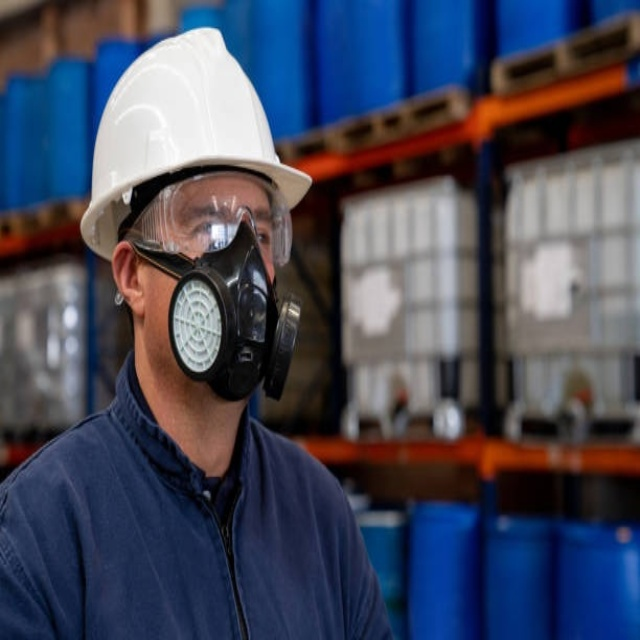Gafas: (120, 181, 295, 273)
Mascara: (131, 213, 300, 403)
